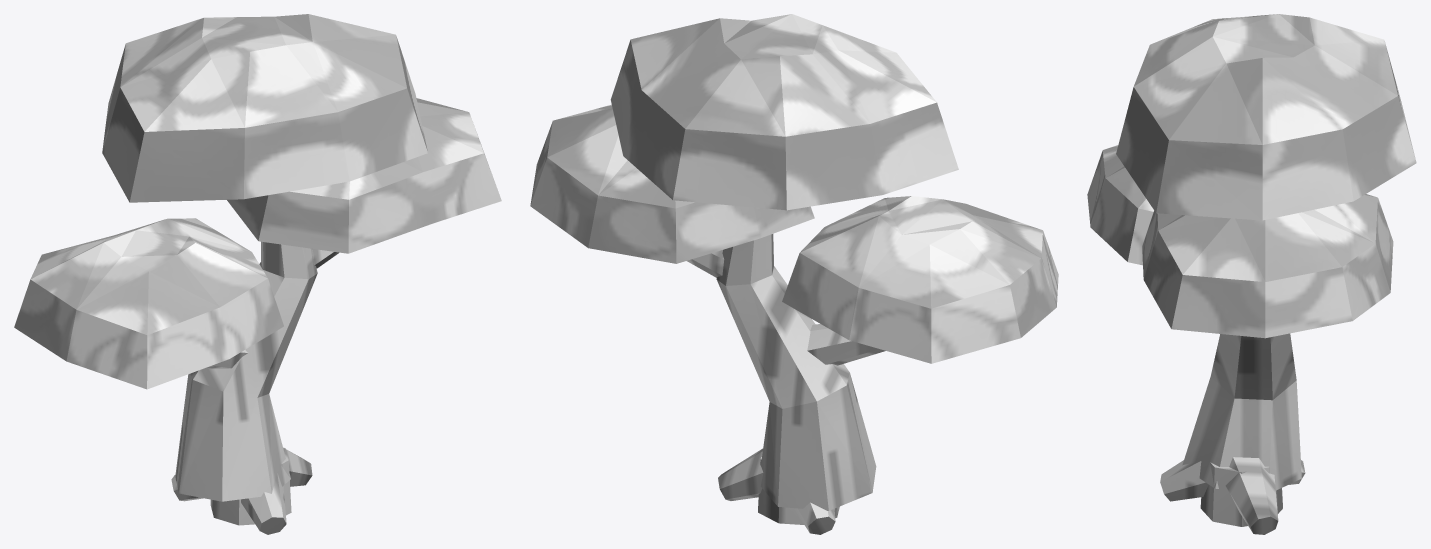
File: bonsai_c.obj
3 views of the same model, side by side, from view 1: azimuth 30°, elevation 25°; view 2: azimuth 150°, elevation 25°; view 3: azimuth 270°, elevation 25° (orthographic). The views are drawn at different scales.
Parts seen in each view (by area): view 1: bonsai_c; view 2: bonsai_c; view 3: bonsai_c.
Part boxes in pixels (bbox=[...]): bonsai_c: bbox=[14, 14, 501, 534]; bonsai_c: bbox=[530, 14, 1058, 534]; bonsai_c: bbox=[1087, 14, 1416, 534].
Size of the model in its own units: 0.9525 by 0.9069 by 0.5585.
